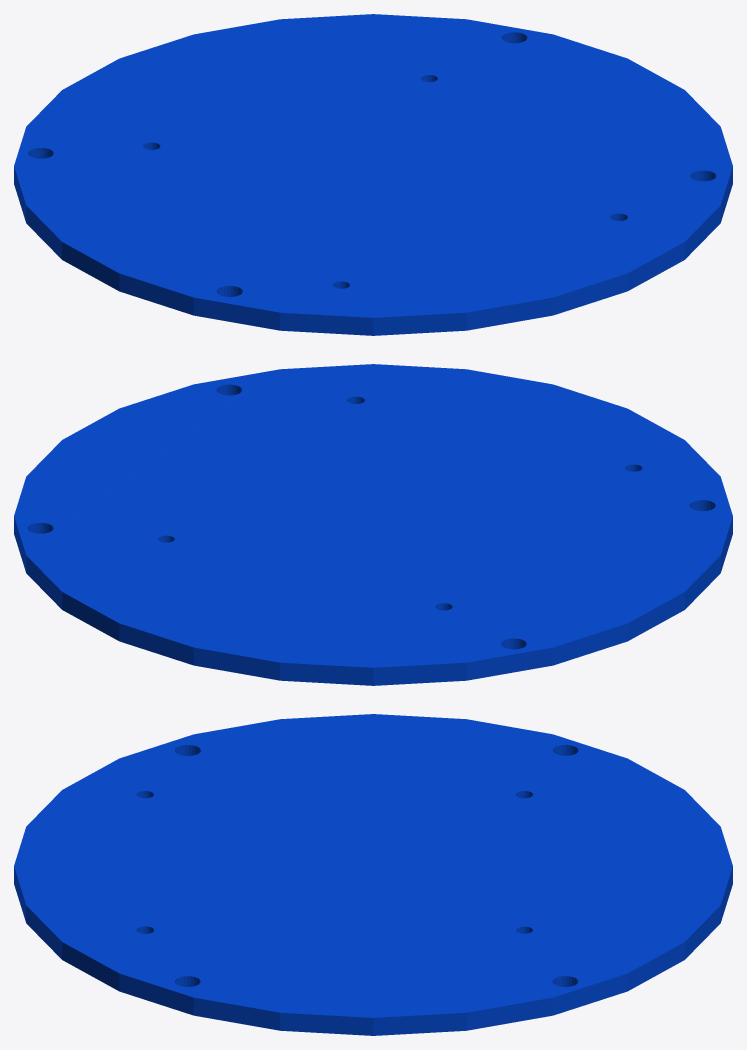
Rendered from top-plate.glb.
3 views of the same model, one above another, from view 1: azimuth 30°, elevation 25°; view 2: azimuth 150°, elevation 25°; view 3: azimuth 270°, elevation 25° (orthographic).
Parts seen in each view (by area): view 1: Mesh_Mesh_head_geo.001_lambert2SG.001; view 2: Mesh_Mesh_head_geo.001_lambert2SG.001; view 3: Mesh_Mesh_head_geo.001_lambert2SG.001.
Part boxes in pixels (box(x1,y1,x2,y2)): Mesh_Mesh_head_geo.001_lambert2SG.001: box(14, 14, 732, 335); Mesh_Mesh_head_geo.001_lambert2SG.001: box(14, 364, 732, 685); Mesh_Mesh_head_geo.001_lambert2SG.001: box(14, 714, 732, 1035).
Size of the model in its own units: 0.11 by 0.00306 by 0.11.
